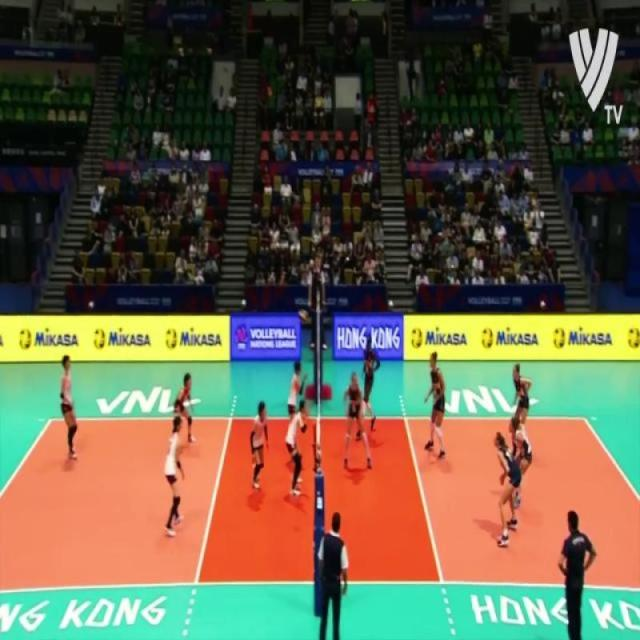volleyball: (164, 326, 179, 351), (19, 328, 33, 350), (552, 329, 566, 350), (482, 326, 494, 350), (628, 326, 640, 350), (412, 327, 423, 350), (297, 306, 309, 323), (94, 328, 104, 348)
